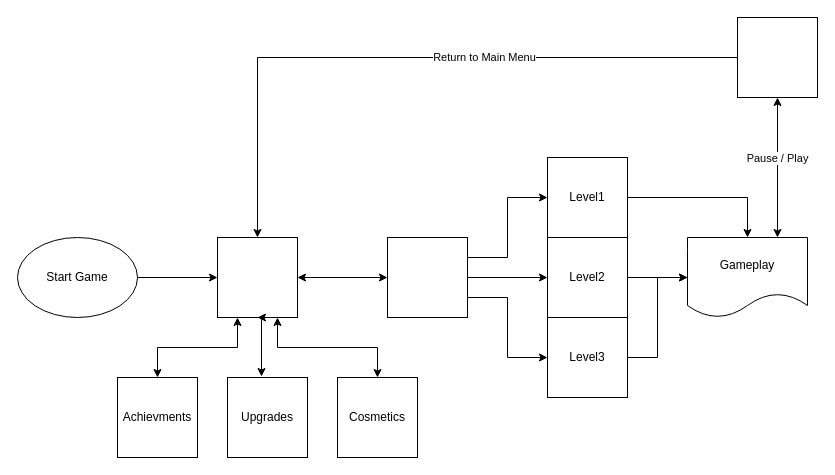
The diagram is 835 pixels wide and 475 high, and some of its shapes have lost their labels. Each missing label, with the box of its shape:
Level selection: (386, 236, 468, 318)
Main Menu: (216, 236, 298, 318)
Pause Menu: (736, 16, 818, 98)
